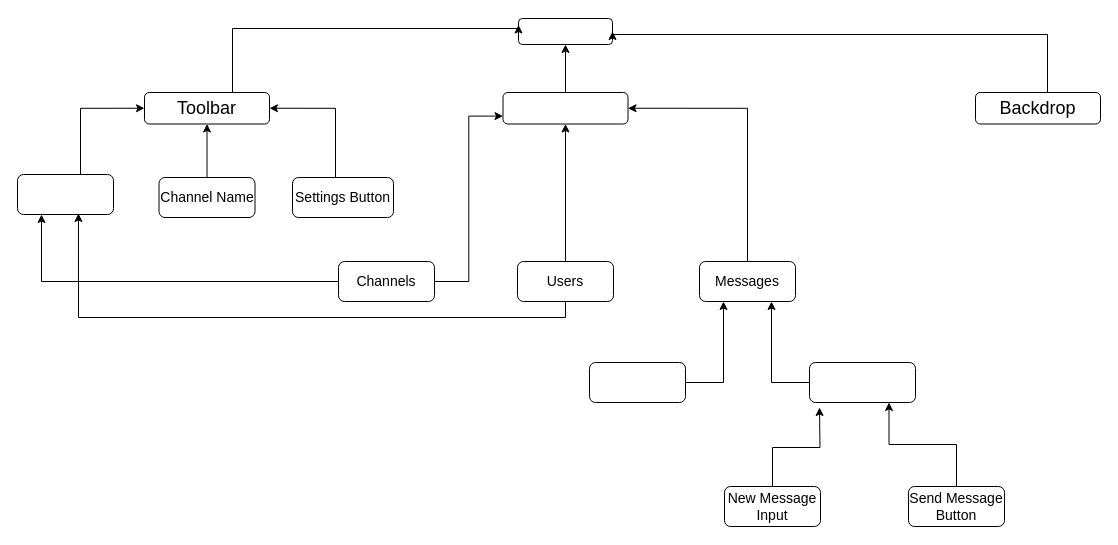
Some shapes in this 1118 by 545 pixel diagram are drawn without their labels. The shapes that lost their labels are listed below. From the top down, each one's centre as x and y in pixels, then its label:
the point at 565,31: App
the point at 565,108: Chat App
the point at 65,194: Sidebar Button
the point at 637,382: Messages History
the point at 862,382: New Message Box
